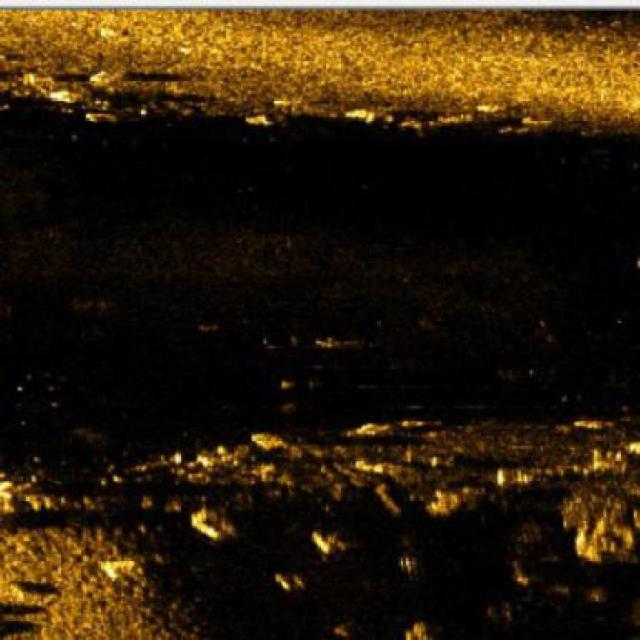bedrock group: (0, 419, 634, 639)
